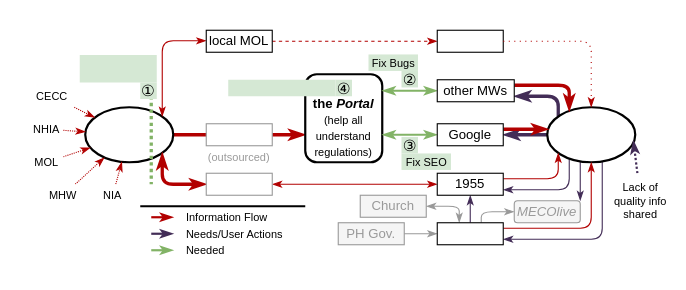
This 686x290 diagram has some shape labels left out. The centre of each missing label's shape, as x and y in pixels:
"Broker" goes at point 469,40.
"company" goes at point 238,134.
"Make Content Requirements" goes at point 117,68.
"MECO" goes at point 469,233.
"MWs" goes at point 591,134.
"NGO" goes at point 238,183.
"Redesign/Restructure" goes at point 281,87.
"WDA" goes at point 129,134.
